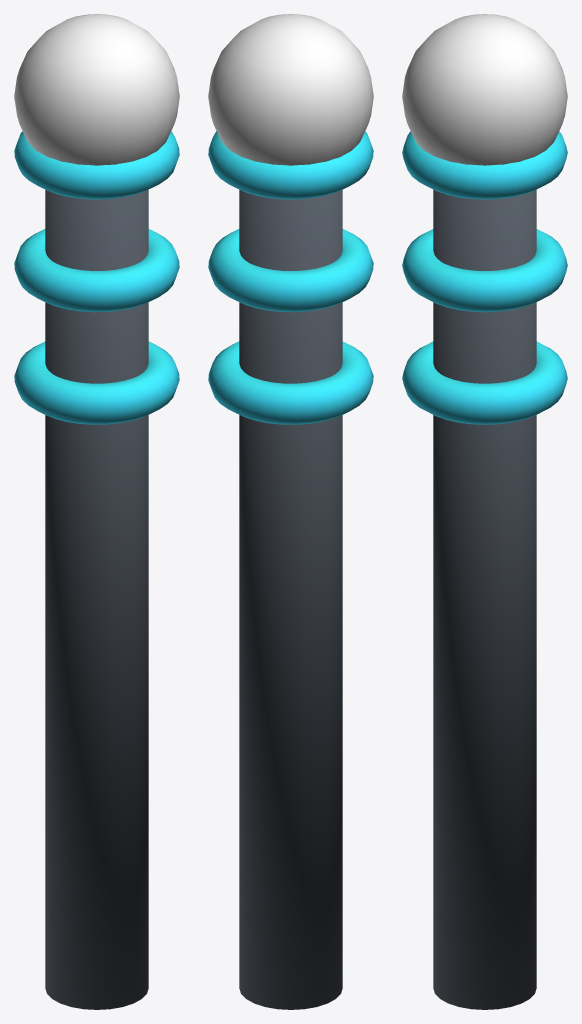
File: baston_electrico.glb
3 views of the same model, side by side, from view 1: azimuth 30°, elevation 25°; view 2: azimuth 150°, elevation 25°; view 3: azimuth 270°, elevation 25° (orthographic).
Parts seen in each view (by area): view 1: baston_electrico_fijo; view 2: baston_electrico_fijo; view 3: baston_electrico_fijo.
Boxes of the visible parts, bbox=[...] form: baston_electrico_fijo: bbox=[14, 14, 179, 1009]; baston_electrico_fijo: bbox=[208, 14, 373, 1009]; baston_electrico_fijo: bbox=[402, 14, 567, 1009].
Bounding box in the file's own units: 0.16 × 1.03 × 0.16.
2 materials, 2 textured.
